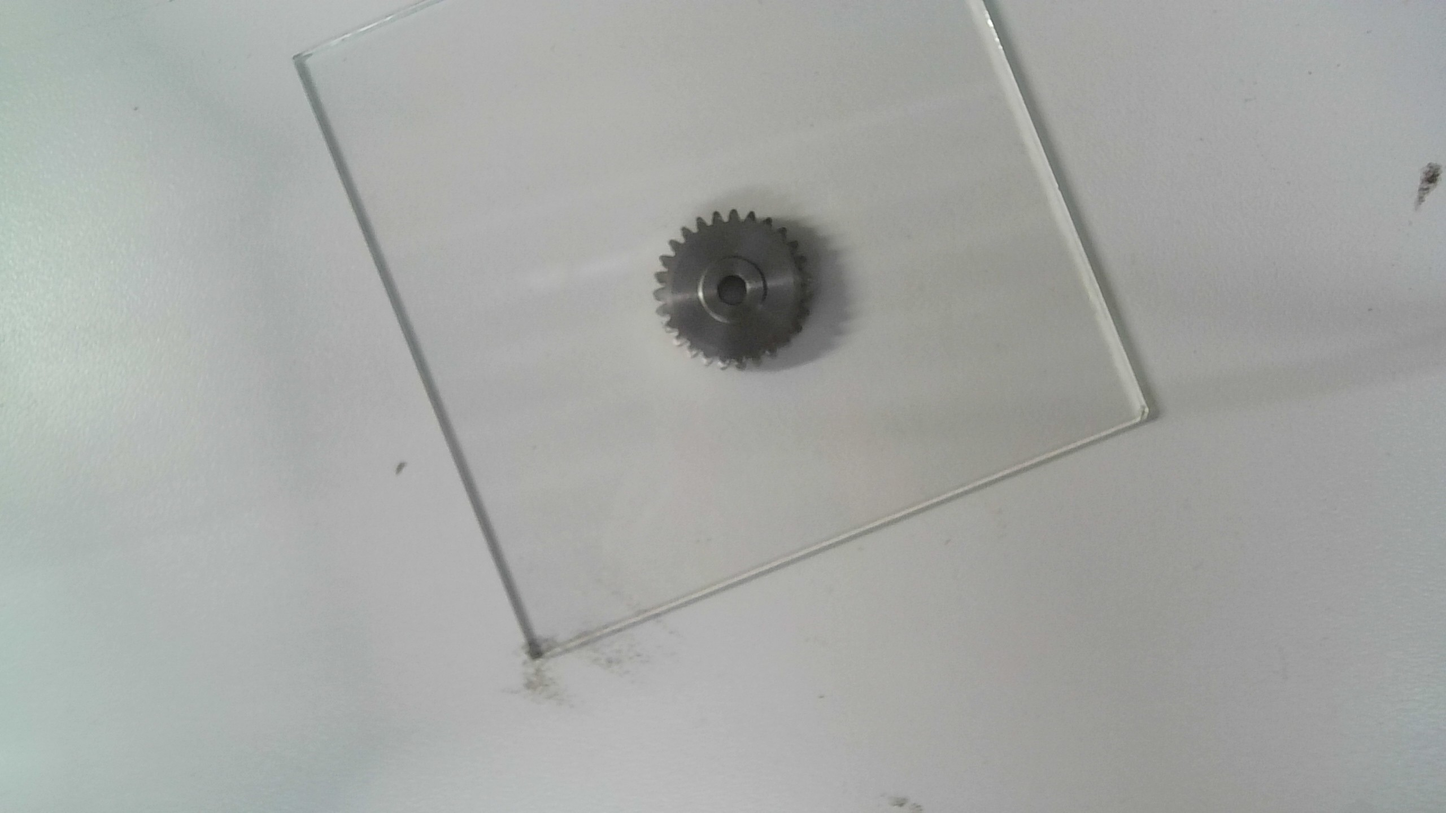gear: (650, 209, 815, 368)
